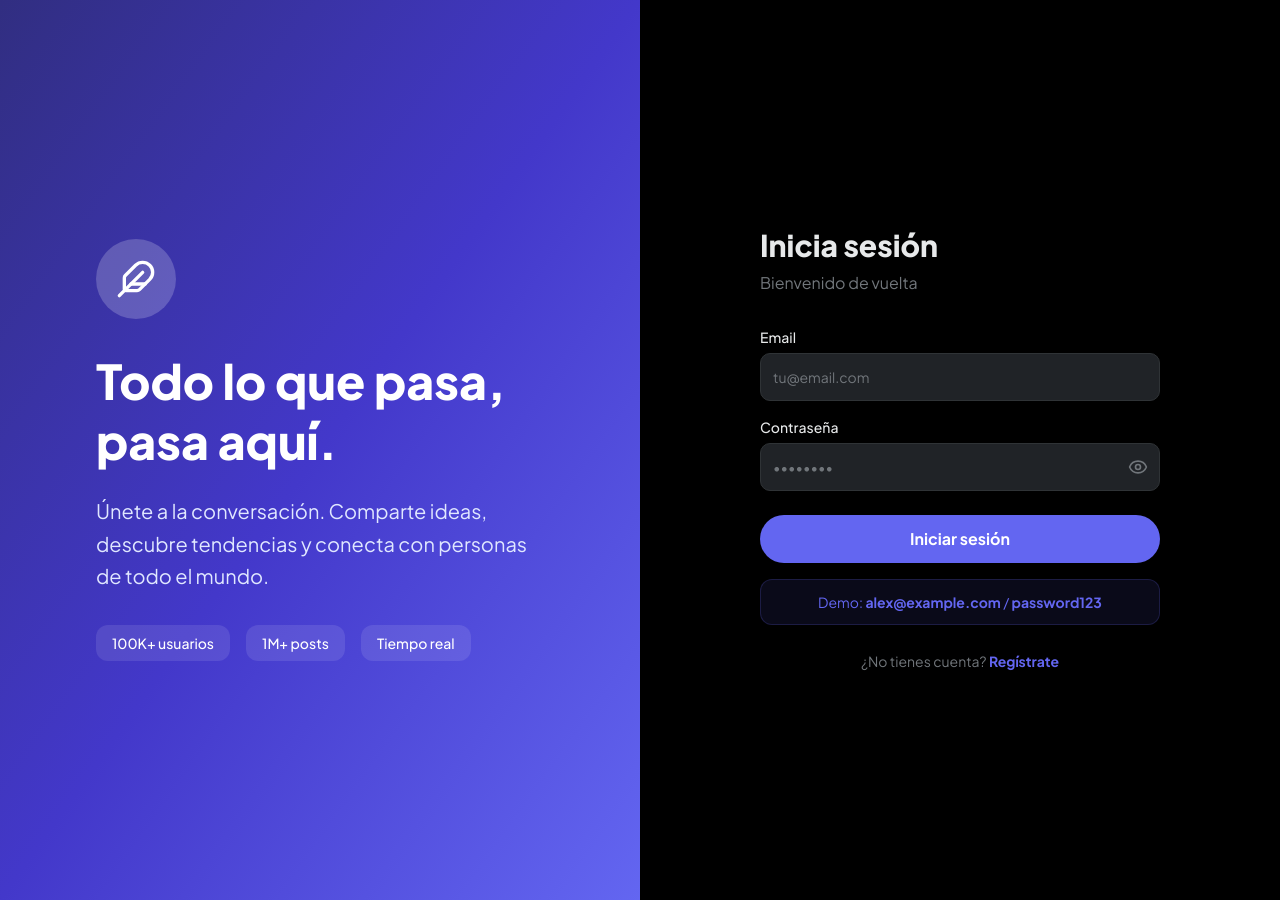
it: Login page › displays API error message on failed login
Type "wrong@example.com" into the field with placeholder "tu@email.com" at {"x": 960, "y": 377}, box [760,353,1160,401]
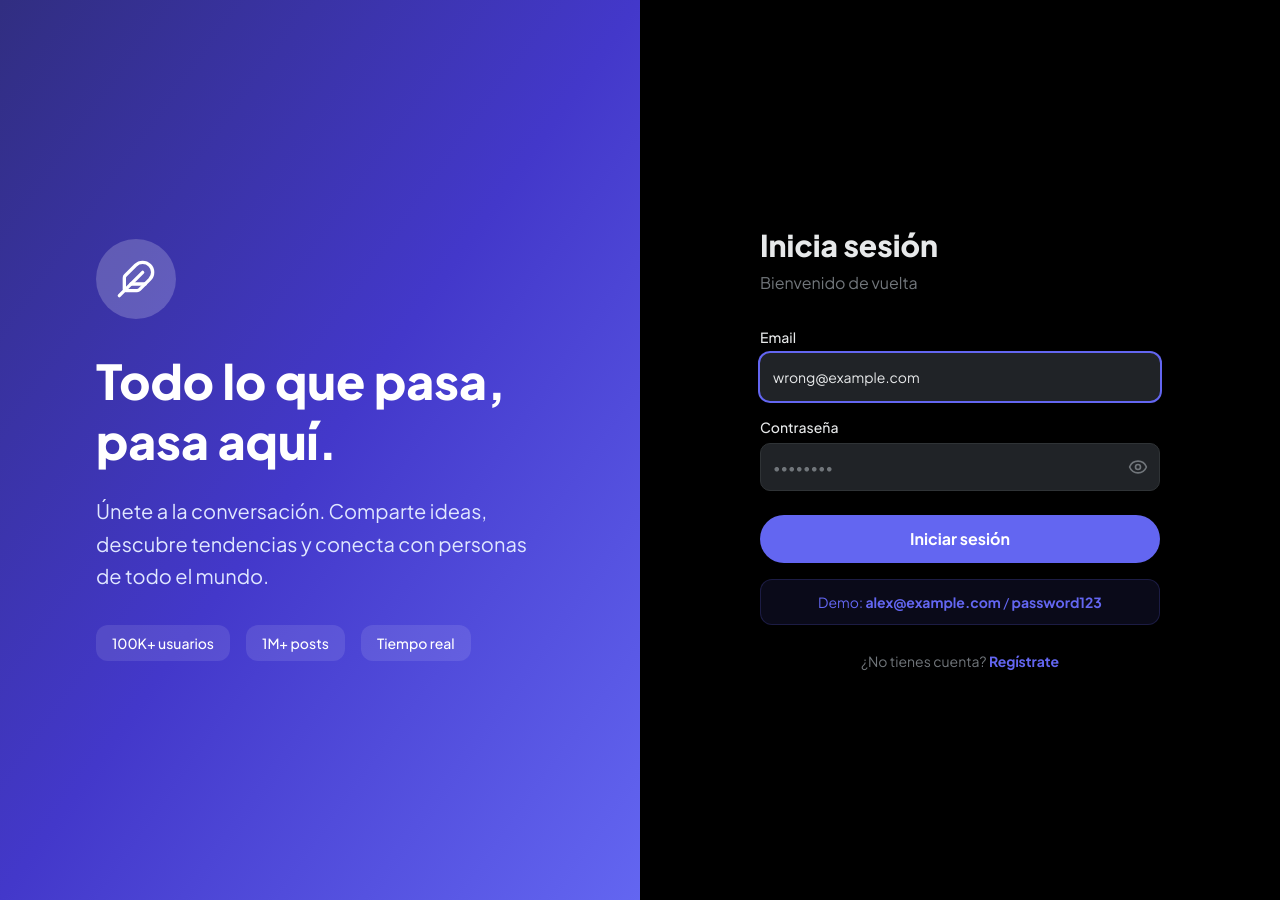
Type "wrongpass" into the password field with placeholder "••••••••" at {"x": 960, "y": 467}, box [760,443,1160,491]
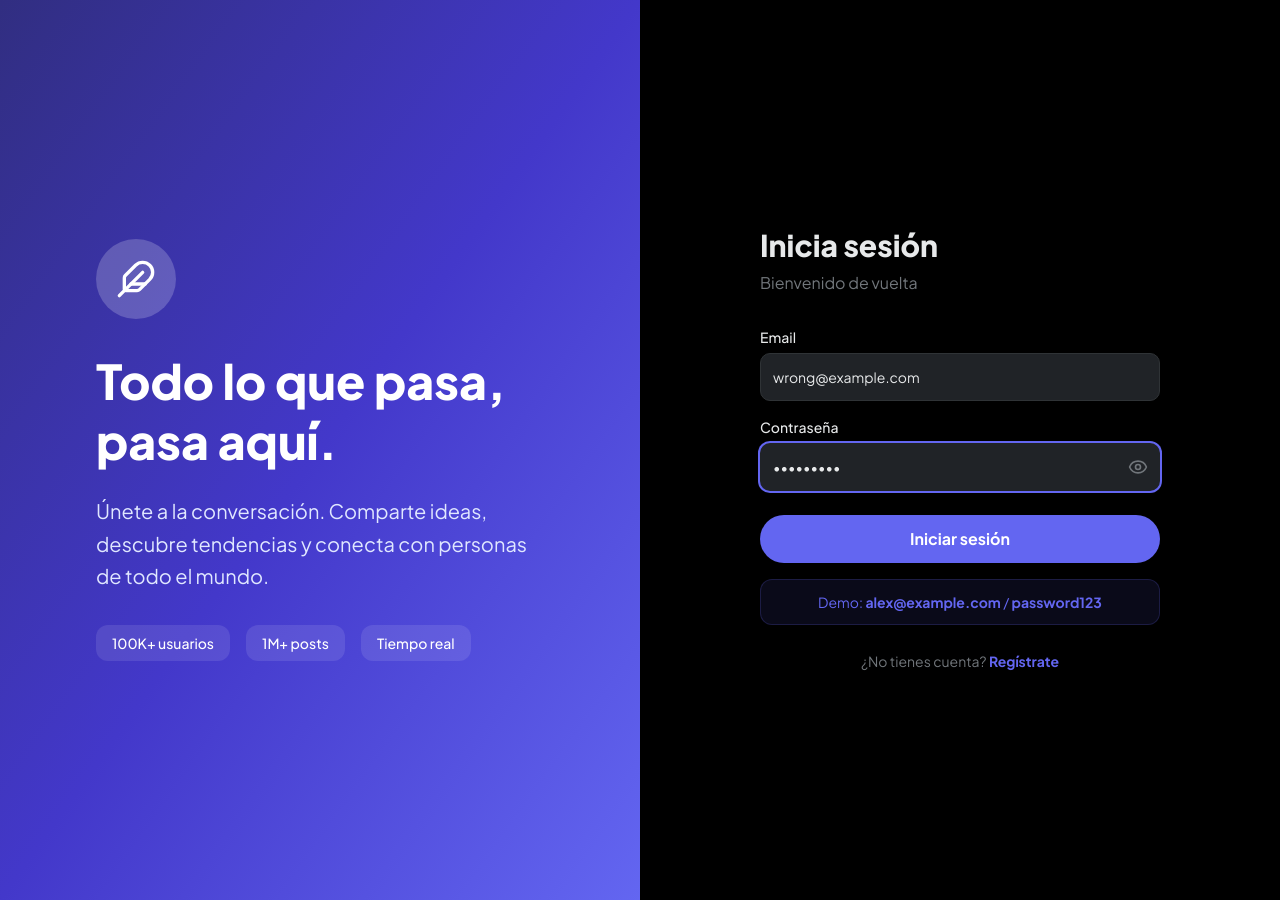
Click the button "Iniciar sesión" at {"x": 960, "y": 539}, box [760,515,1160,563]
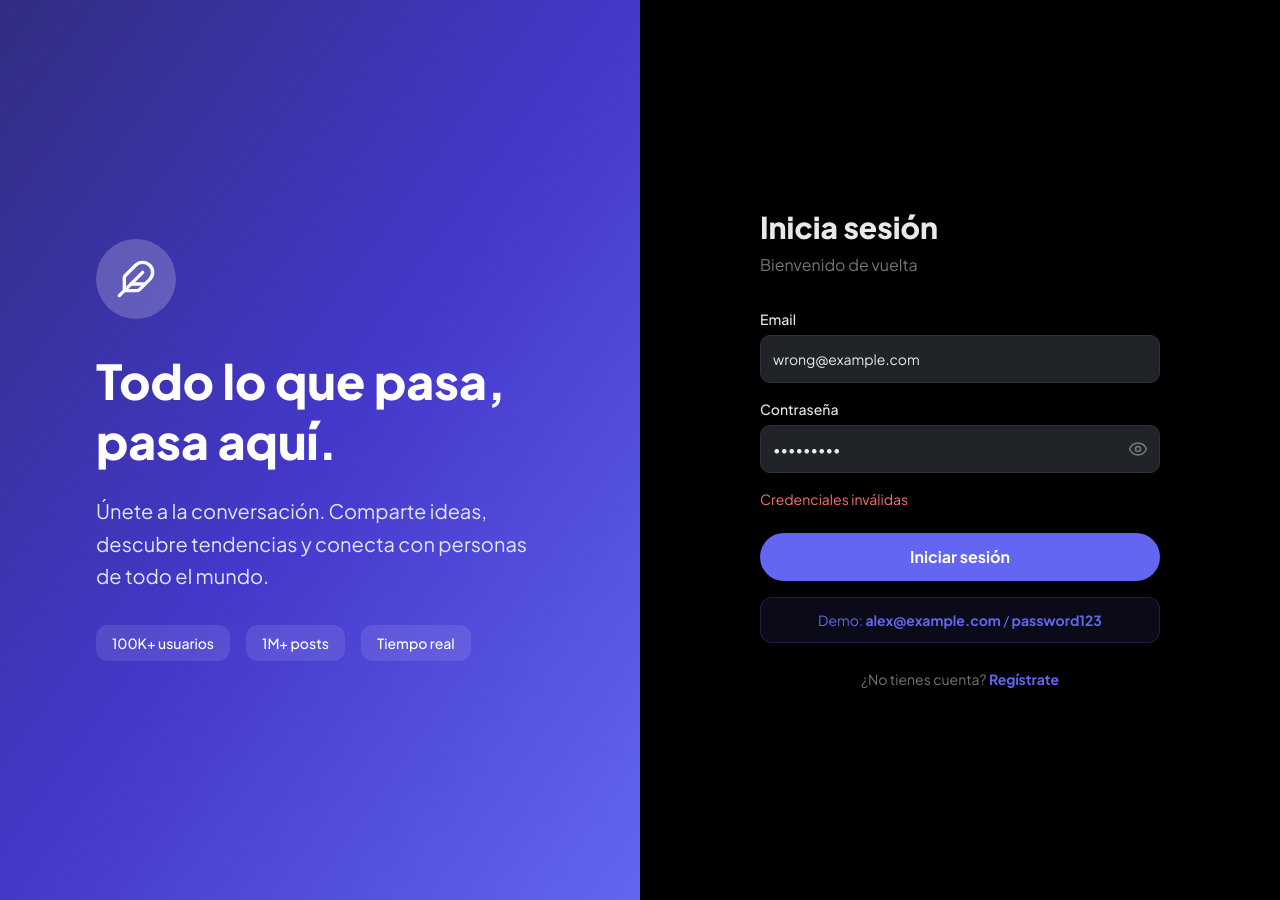
Check: the text "Credenciales inválidas" is shown, box [760,490,908,508]
